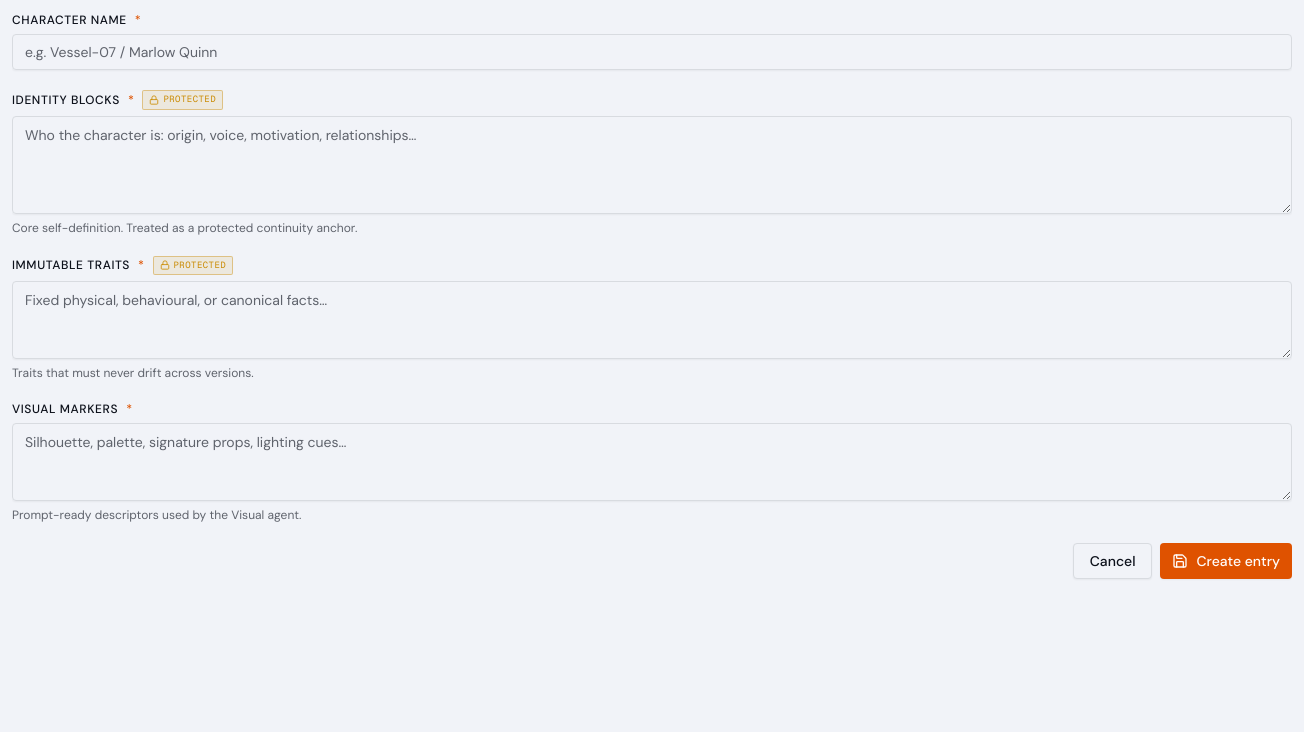
DnaForm text-based creation › blocks submission and flags every empty required field
Click the button with test id "dna.submit_button" at point(1226, 561), box [1160,543,1292,579]
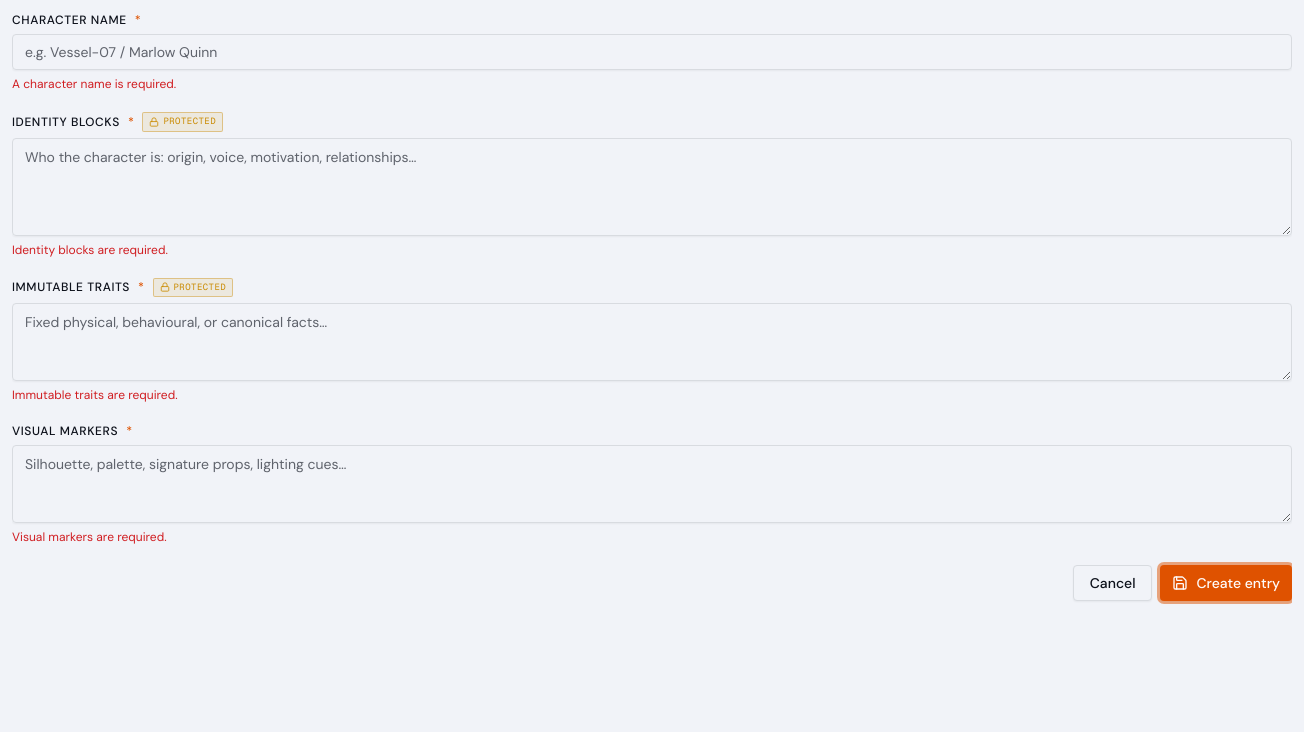
Result: the text "A character name is required." is shown at [12,76,176,92]
Result: the text "Identity blocks are required." is shown at [12,242,168,258]
Result: the text "Immutable traits are required." is shown at [12,387,178,403]
